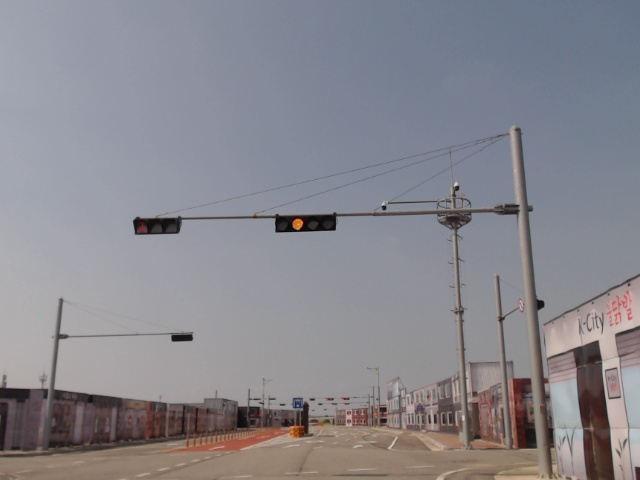orange_4: (272, 215, 338, 234)
